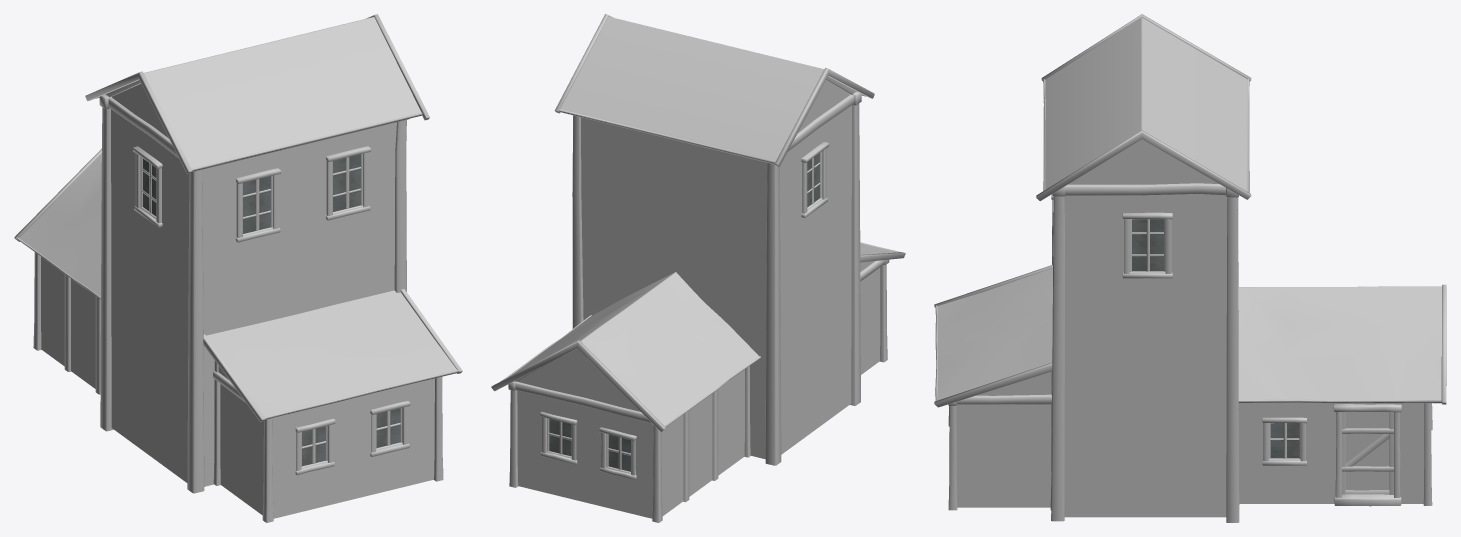
Rendered from House_14.FBX.
3 renders of one model, left to right at view 1: azimuth 30°, elevation 25°; view 2: azimuth 150°, elevation 25°; view 3: azimuth 270°, elevation 25°, orthographic. The views are drawn at different scales.
Visible parts, largest first — view 1: Mesh; view 2: Mesh; view 3: Mesh.
Boxes of the visible parts, <box> form: Mesh: <box>14,14,462,522</box>; Mesh: <box>491,14,905,522</box>; Mesh: <box>934,14,1446,522</box>.
Bounding box in the file's own units: 662 × 1213 × 1039.
